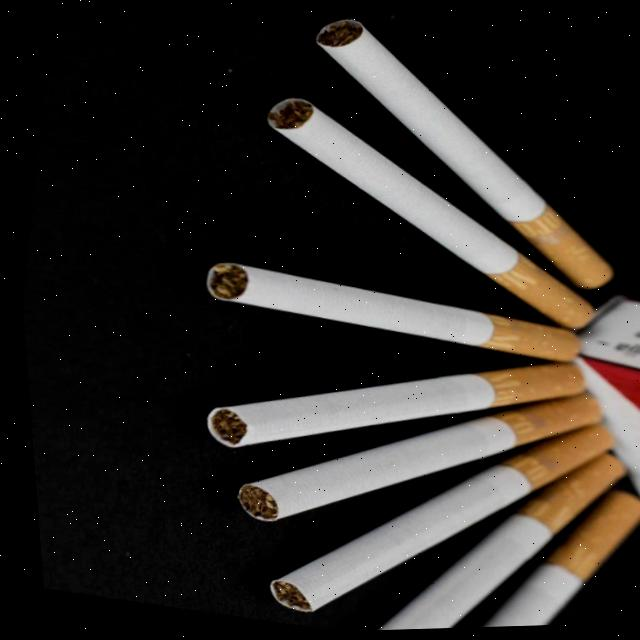cigarette: (313, 18, 611, 289), (263, 97, 592, 328), (271, 423, 612, 611), (237, 392, 599, 520), (374, 454, 625, 630), (202, 261, 579, 361), (203, 363, 585, 447), (477, 490, 640, 627)
